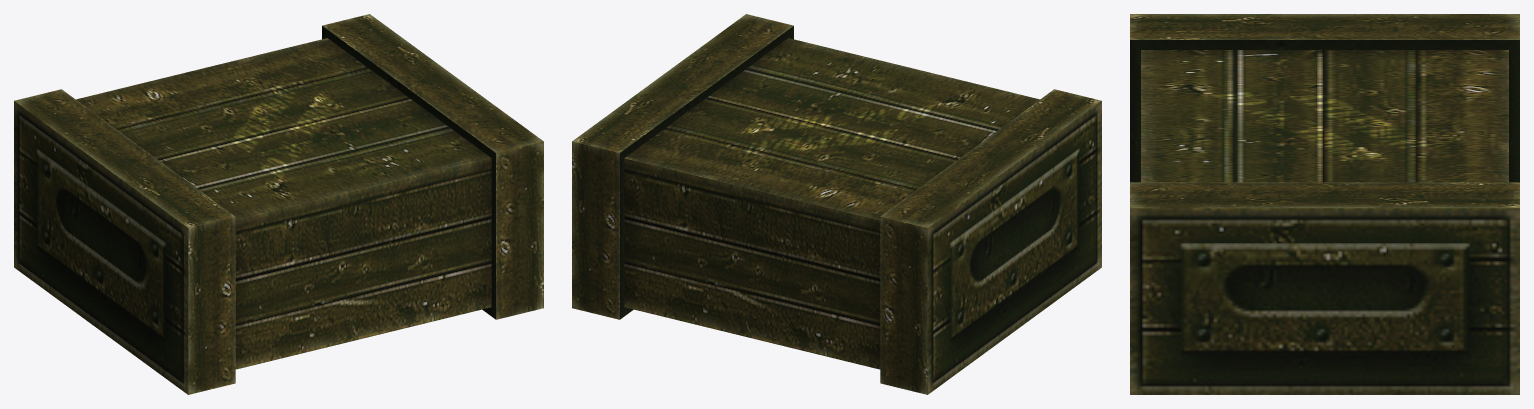
Rendered from kiste5.FBX.
3 renders of one model, left to right at view 1: azimuth 30°, elevation 25°; view 2: azimuth 150°, elevation 25°; view 3: azimuth 270°, elevation 25°, orthographic. The views are drawn at different scales.
Parts seen in each view (by area): view 1: ammo; view 2: ammo; view 3: ammo.
Part boxes in pixels (left/top/right/bottom): ammo: left=14, top=14, right=543, bottom=394; ammo: left=572, top=14, right=1101, bottom=394; ammo: left=1130, top=14, right=1519, bottom=394.
Bounding box in the file's own units: 27.44 × 23.27 × 12.29.
Materials: 1 (1 with a texture image).
